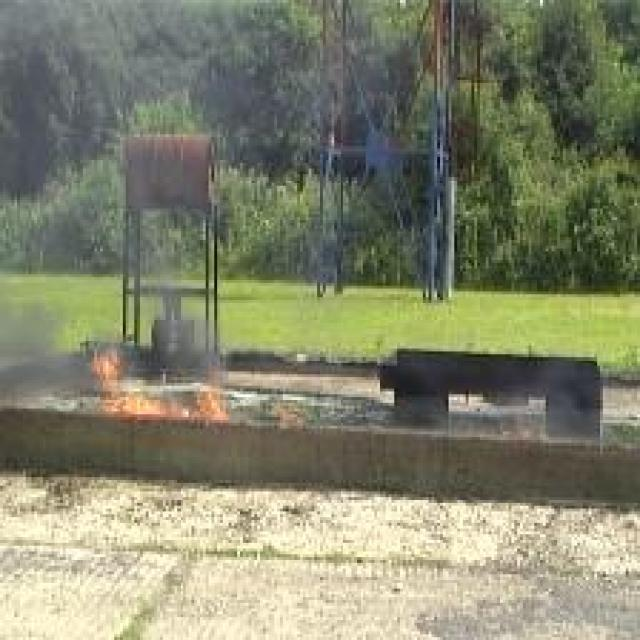Fire: (98, 349, 235, 422)
